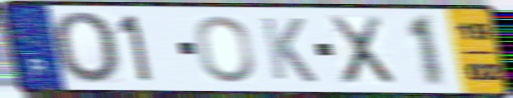1: (407, 12, 452, 90), (115, 13, 155, 83)
K: (258, 15, 320, 85)
O: (48, 10, 123, 87), (192, 14, 258, 85)
X: (324, 13, 398, 87)
